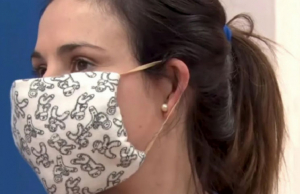barbijo: (6, 66, 185, 190)
